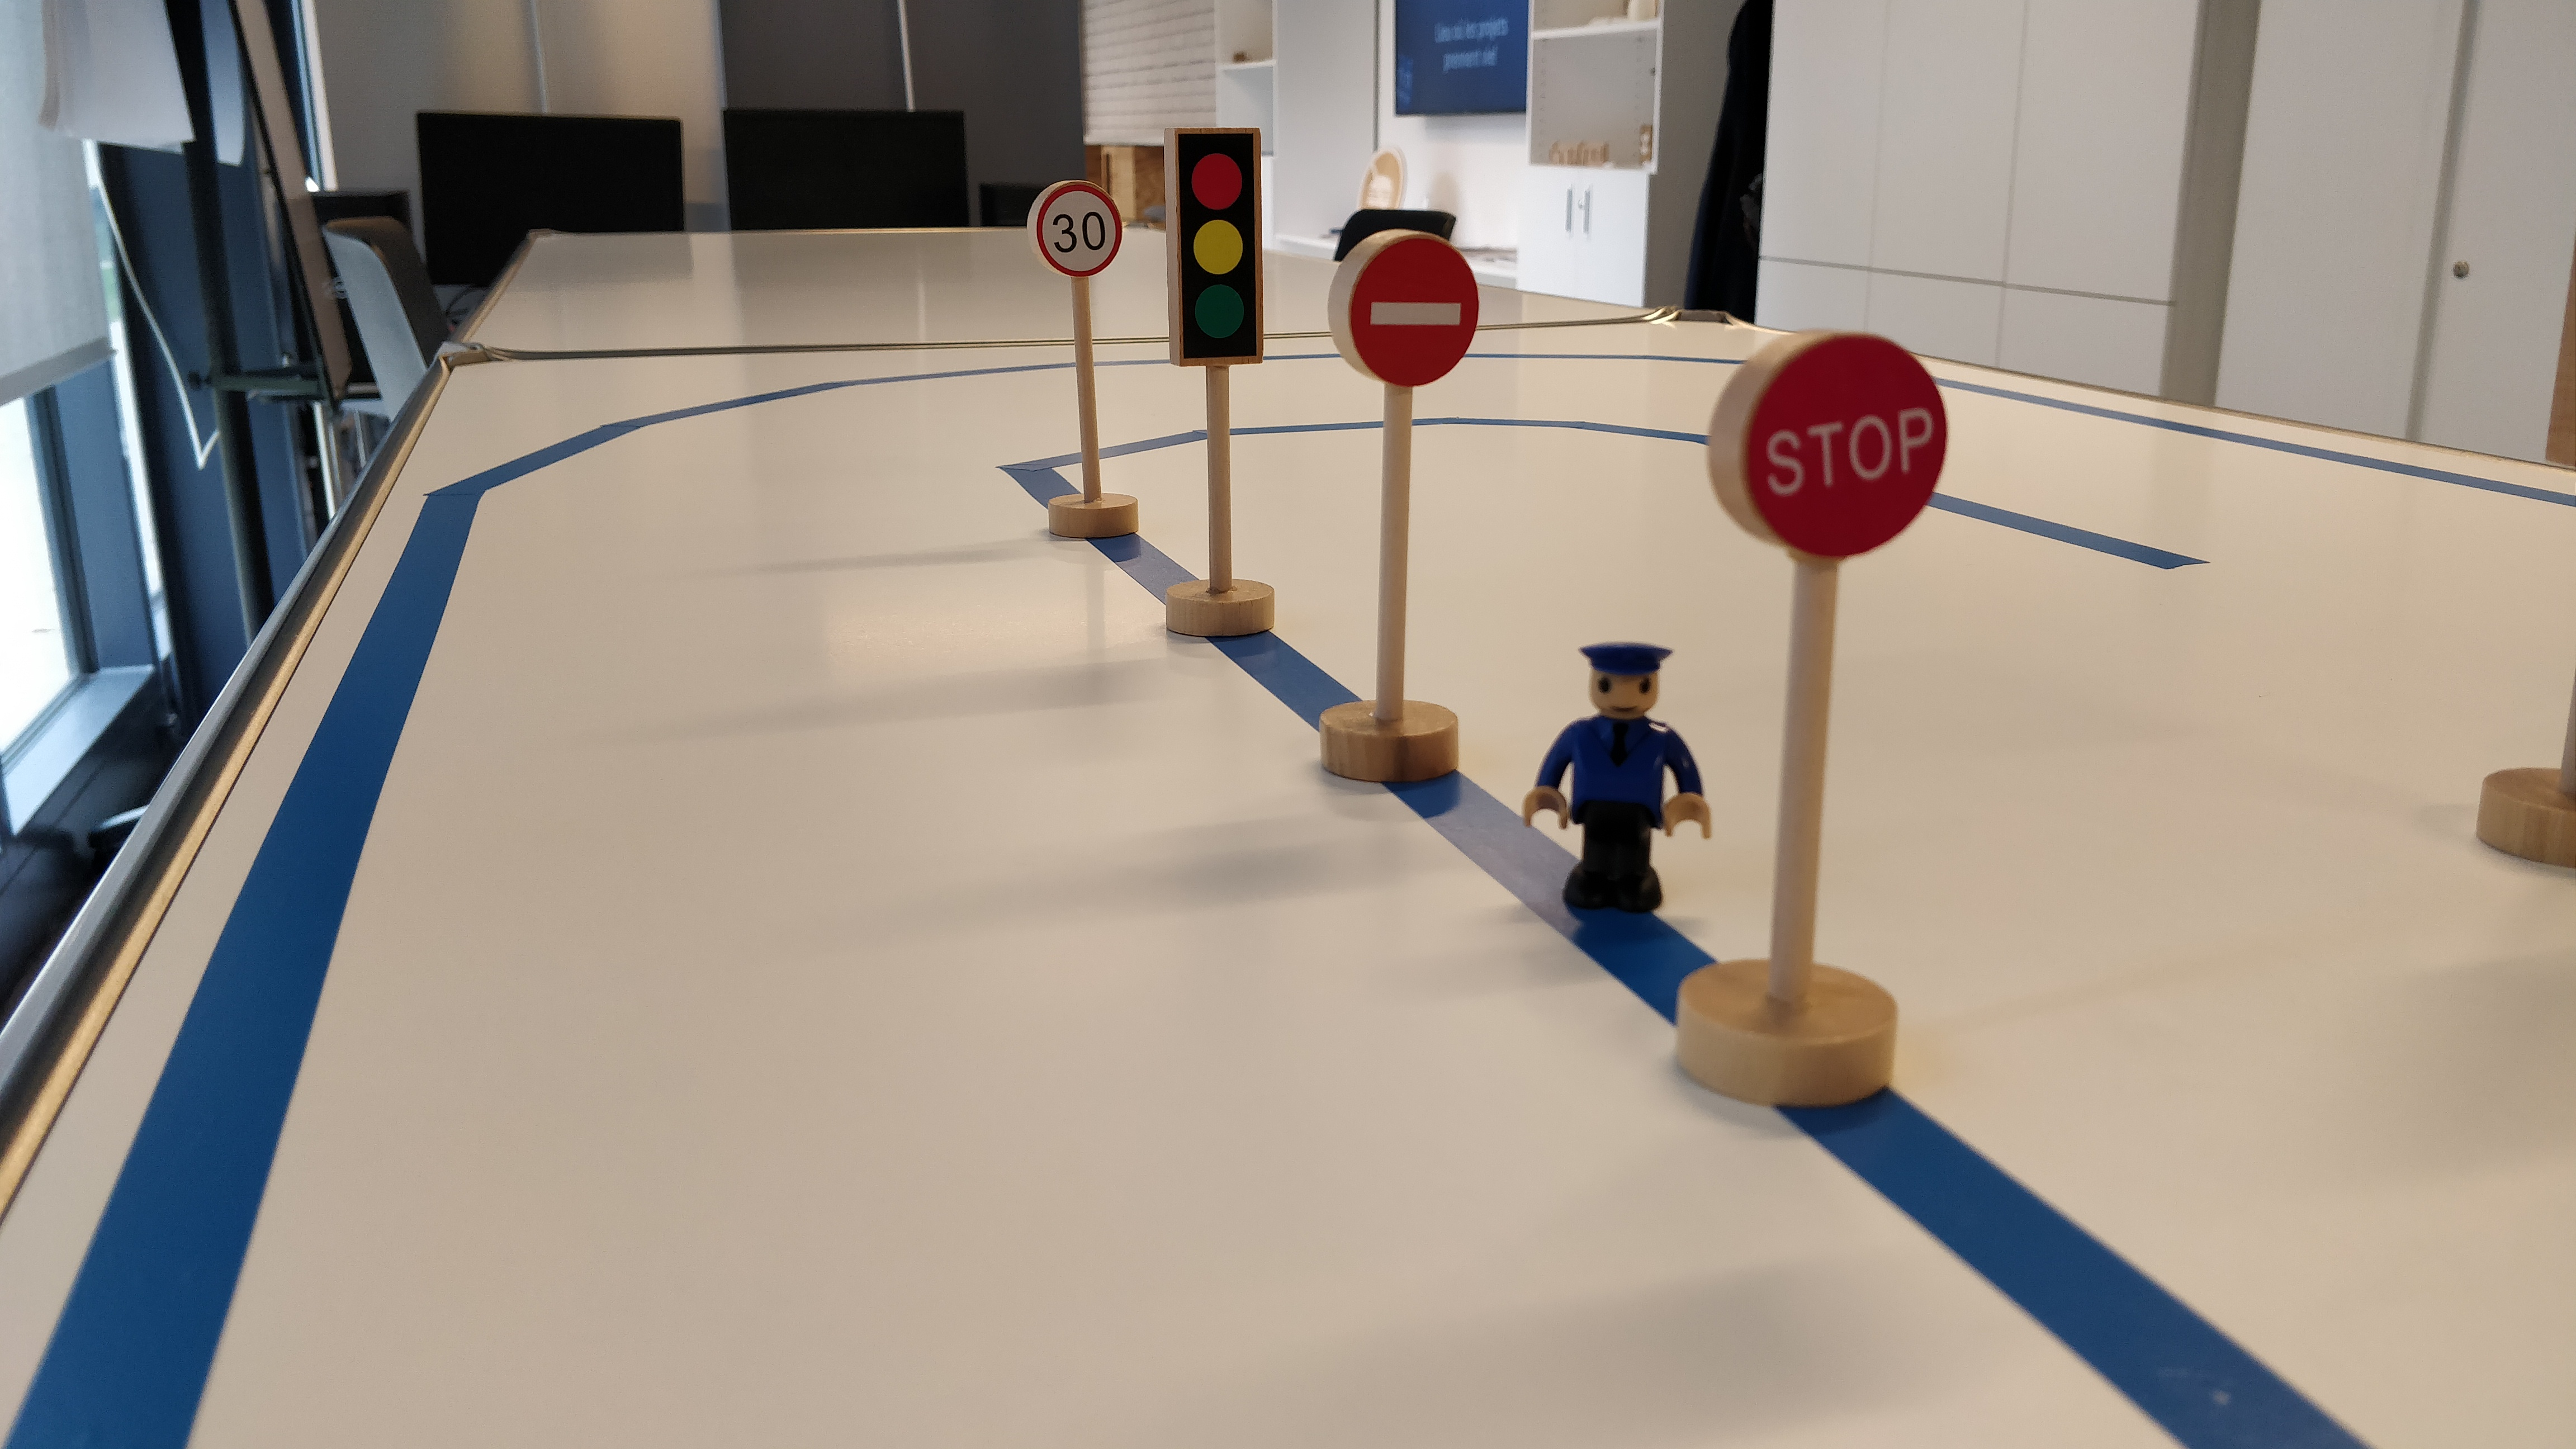Person: (1516, 633, 1720, 923)
Prohibition Sign: (1327, 229, 1483, 387)
Speed Limit 30: (1032, 175, 1123, 278)
Stop Sign: (1711, 329, 1950, 565)
Traffic Light: (1161, 122, 1264, 372)
